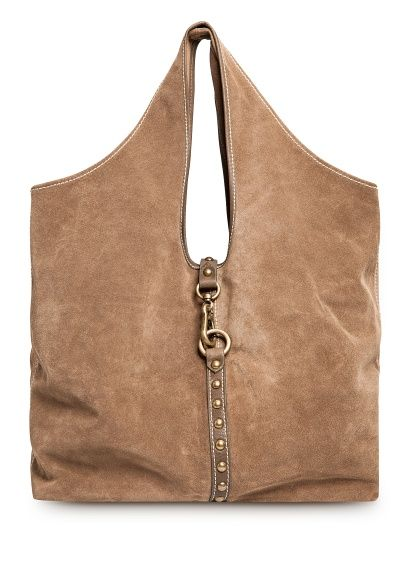gamuza: (27, 22, 381, 506)
